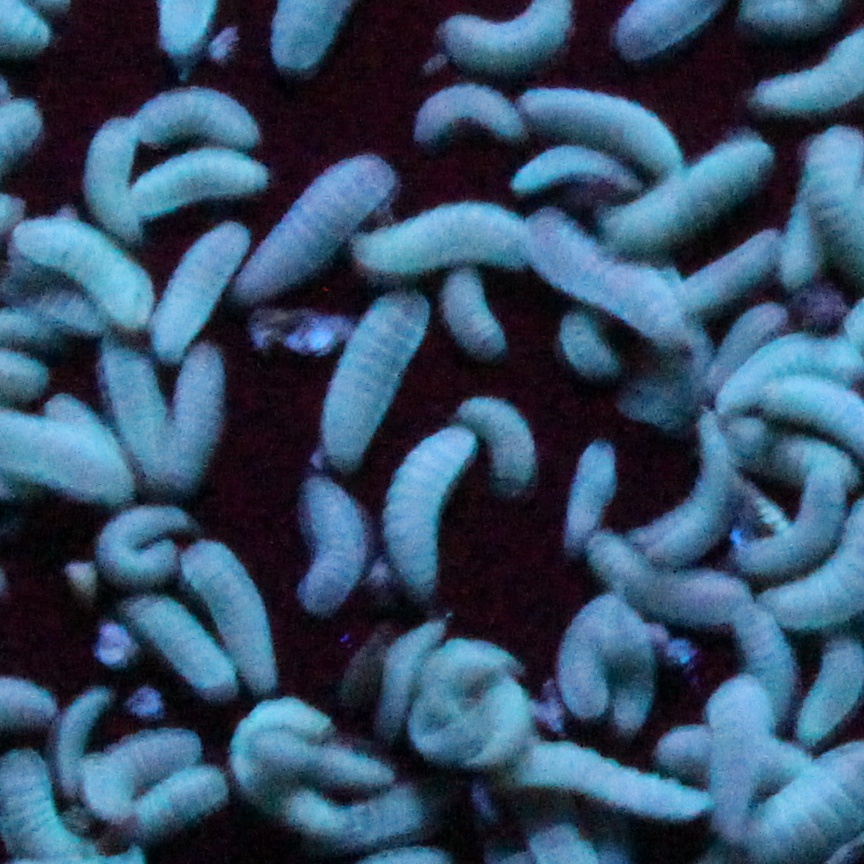larve: (234, 145, 391, 298), (505, 734, 711, 831), (522, 209, 671, 336), (518, 71, 691, 171), (605, 136, 765, 242), (583, 531, 754, 629), (323, 296, 423, 463), (543, 594, 662, 731), (227, 687, 340, 829), (405, 634, 522, 771), (638, 416, 745, 563), (385, 425, 471, 596), (94, 338, 193, 480), (114, 589, 238, 702), (182, 543, 280, 685), (349, 198, 534, 272), (14, 216, 147, 318), (740, 465, 847, 585), (158, 222, 247, 363), (309, 774, 471, 843), (124, 143, 271, 218), (711, 672, 769, 834), (87, 725, 194, 812), (367, 622, 440, 736), (131, 87, 260, 151), (682, 229, 780, 312), (82, 114, 147, 236), (98, 500, 194, 580), (402, 80, 529, 140), (262, 732, 400, 787), (167, 345, 222, 476), (302, 474, 354, 611), (460, 392, 533, 489), (796, 634, 864, 736), (53, 689, 114, 794), (125, 767, 222, 831), (440, 265, 509, 354), (736, 605, 791, 714), (563, 436, 618, 543)
